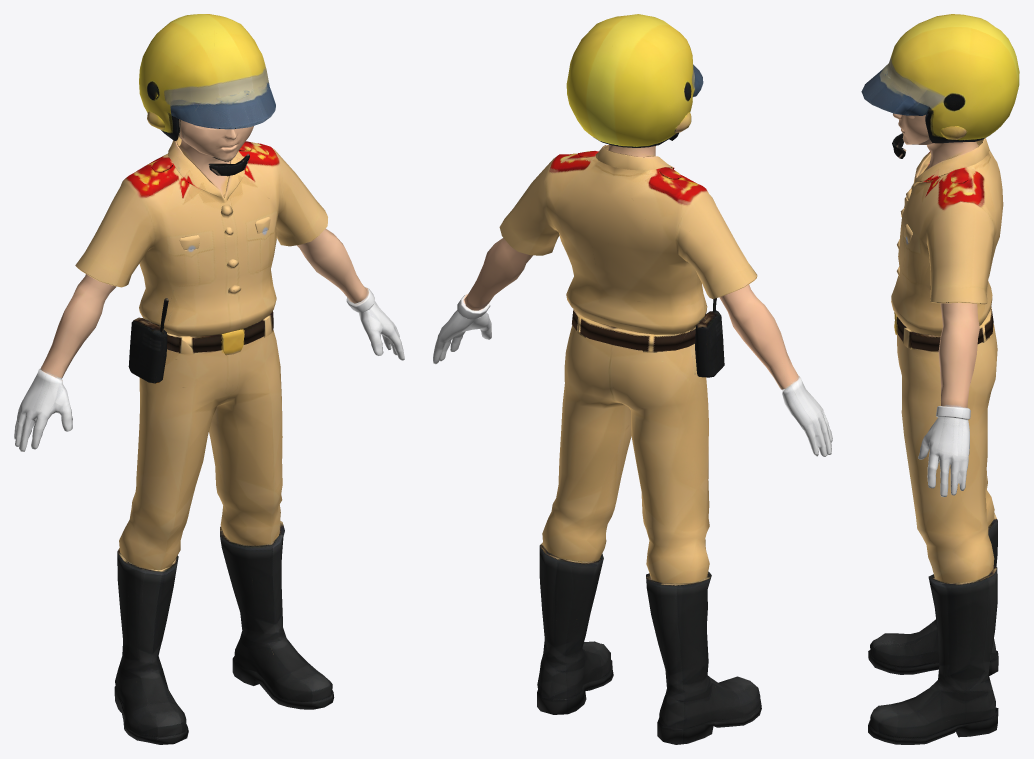
File: csgt-officer-apose-prepared-v1.glb
The picture shows the model from 3 angles, left to right: view 1: azimuth 30°, elevation 25°; view 2: azimuth 150°, elevation 25°; view 3: azimuth 270°, elevation 25°; orthographic projection. The views are drawn at different scales.
Parts seen in each view (by area): view 1: csgt-officer-apose; view 2: csgt-officer-apose; view 3: csgt-officer-apose.
Boxes of the visible parts, x1=… form: csgt-officer-apose: x1=14, y1=14, x2=404, y2=744; csgt-officer-apose: x1=433, y1=14, x2=832, y2=744; csgt-officer-apose: x1=861, y1=14, x2=1019, y2=744.
Bounding box in the file's own units: 1.07 × 1.8 × 0.3821.
1 material, 1 textured.
